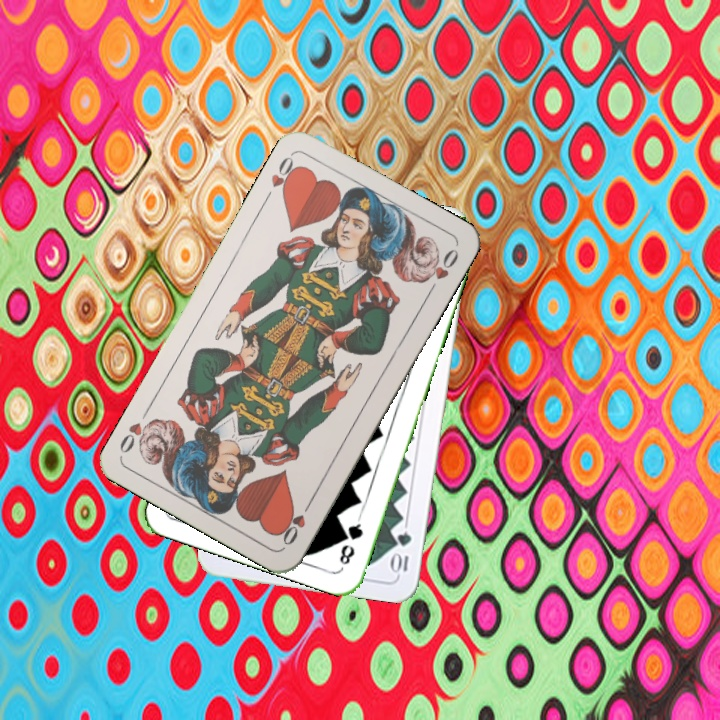G10: (389, 527, 414, 577)
G8: (335, 513, 366, 568)
HO: (260, 150, 303, 205), (276, 496, 316, 548)
